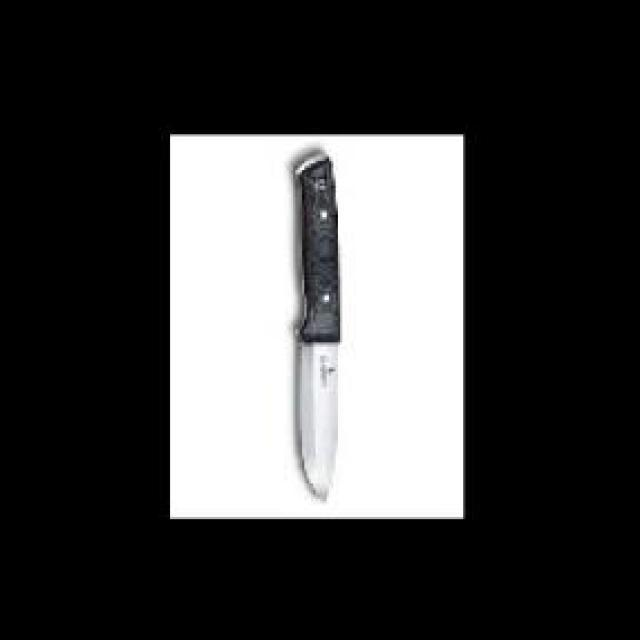knife: (284, 150, 345, 499)
